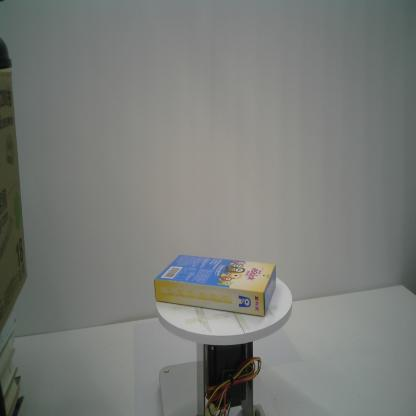Dessert: (153, 253, 277, 318)
